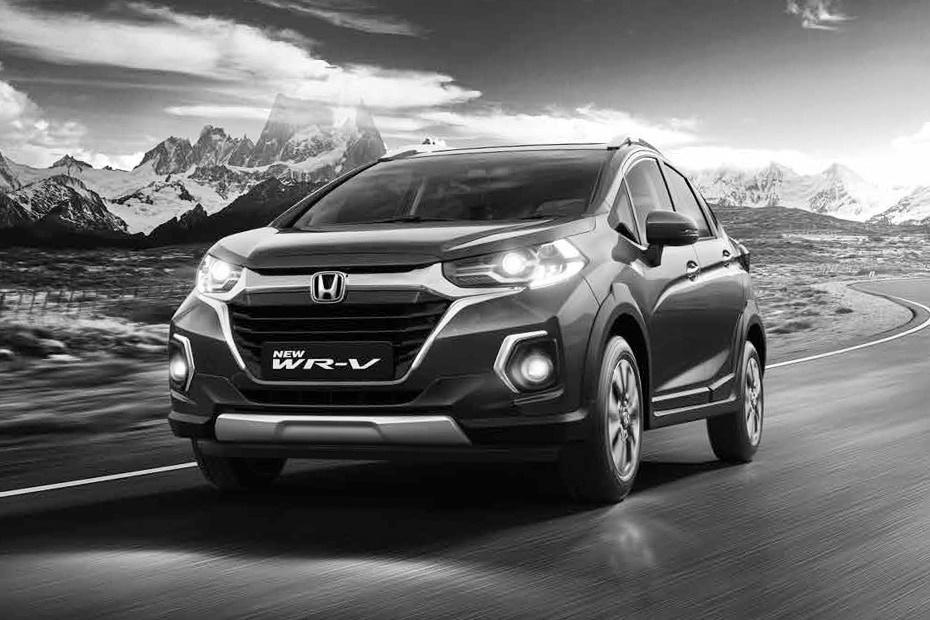Car hood: (204, 218, 601, 274)
Fender - -F-L-: (578, 196, 666, 434)
Front bumper: (161, 290, 607, 461)
Headlight - -L-: (434, 234, 596, 299)
Headlight - -R-: (171, 234, 271, 308)
Passenger-s door - -F-L-: (620, 140, 707, 412)
Passenger-s door - -R-L-: (675, 155, 756, 409)
Rear bumper: (738, 271, 791, 395)
Rear light - -L-: (726, 224, 761, 271)
Side bumper - -L-: (640, 374, 752, 434)
Side mirror - -L-: (630, 196, 709, 266)
